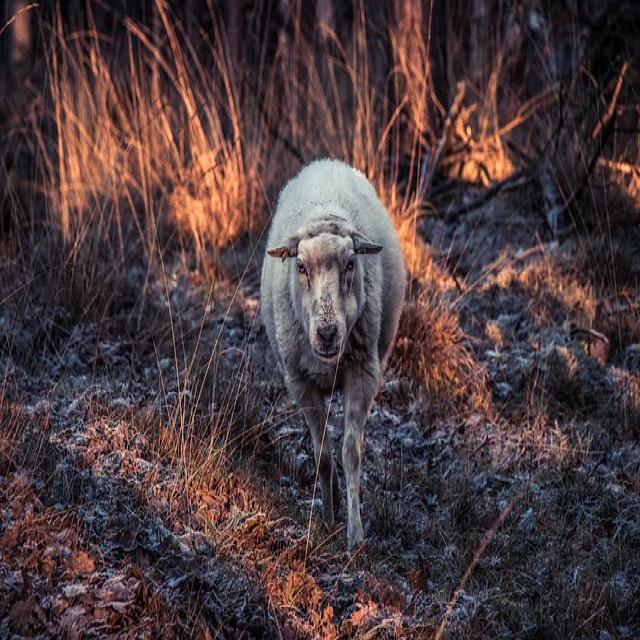goat: (259, 158, 408, 550)
